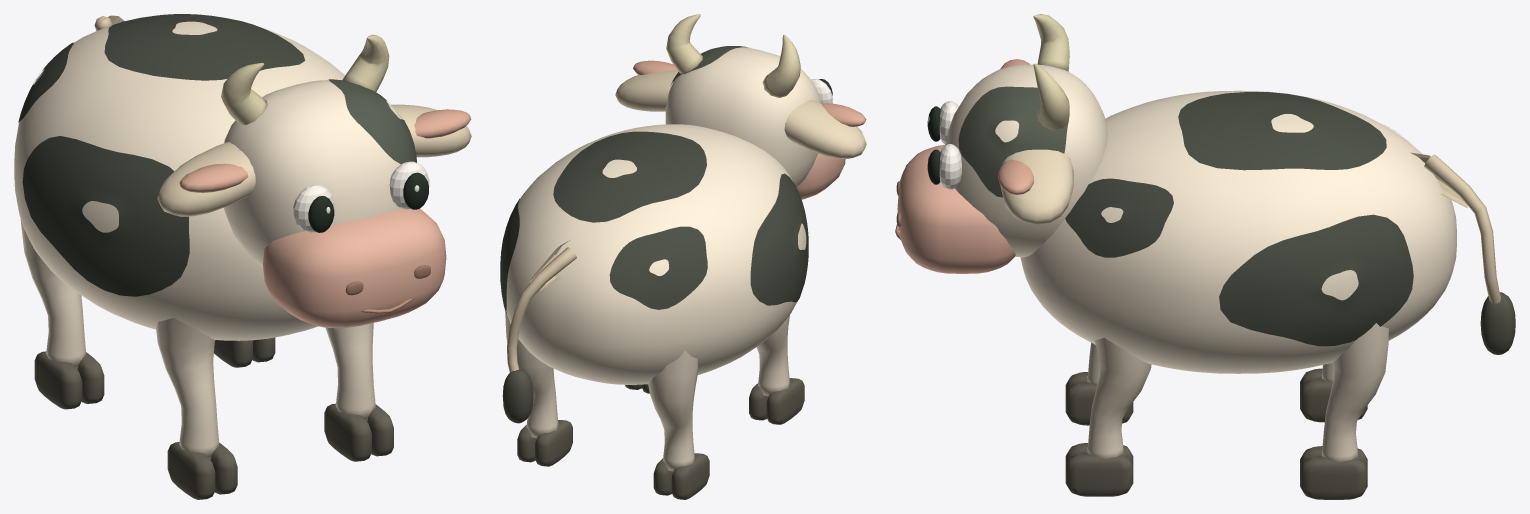
Rendered from cow.gltf.
3 views of the same model, side by side, from view 1: azimuth 30°, elevation 25°; view 2: azimuth 150°, elevation 25°; view 3: azimuth 270°, elevation 25° (orthographic). The views are drawn at different scales.
Visible parts, largest first — view 1: sculpted-shoulders-belly, flush-coat-marking-1, head-and-forehead, soft-pink-muzzle, flush-coat-marking-2, curved-leg-2, curved-leg-0, ear--1, curved-leg-3, forehead-coat-marking, cloven-hoof-0-toe--1, cloven-hoof-2-toe--1 (+16 smaller); view 2: sculpted-shoulders-belly, head-and-forehead, flush-coat-marking-2, flush-coat-marking-4, flush-coat-marking-1, curved-leg-0, ear--1, curved-leg-1, ear-1, curved-leg-2, curving-tail, tail-tuft (+13 smaller); view 3: sculpted-shoulders-belly, flush-coat-marking-0, flush-coat-marking-2, head-and-forehead, soft-pink-muzzle, flush-coat-marking-3, forehead-coat-marking, curved-leg-1, curved-leg-3, ear-1, cloven-hoof-3-toe-1, cloven-hoof-1-toe-1 (+8 smaller).
Boxes of the visible parts, x1=… form: sculpted-shoulders-belly: x1=14, y1=21, x2=344, y2=340; flush-coat-marking-1: x1=22, y1=136, x2=189, y2=296; head-and-forehead: x1=224, y1=80, x2=402, y2=267; soft-pink-muzzle: x1=263, y1=208, x2=446, y2=328; flush-coat-marking-2: x1=104, y1=14, x2=305, y2=80; curved-leg-2: x1=156, y1=317, x2=219, y2=459; curved-leg-0: x1=20, y1=219, x2=86, y2=368; ear--1: x1=157, y1=142, x2=255, y2=216; curved-leg-3: x1=325, y1=323, x2=375, y2=420; forehead-coat-marking: x1=328, y1=79, x2=416, y2=164; cloven-hoof-0-toe--1: x1=34, y1=351, x2=82, y2=409; cloven-hoof-2-toe--1: x1=167, y1=442, x2=215, y2=499; sculpted-shoulders-belly: x1=506, y1=124, x2=806, y2=384; head-and-forehead: x1=665, y1=47, x2=820, y2=187; flush-coat-marking-2: x1=553, y1=131, x2=706, y2=222; flush-coat-marking-4: x1=609, y1=226, x2=707, y2=309; flush-coat-marking-1: x1=750, y1=173, x2=808, y2=305; curved-leg-0: x1=648, y1=351, x2=698, y2=471; ear--1: x1=784, y1=100, x2=866, y2=158; curved-leg-1: x1=505, y1=312, x2=558, y2=438; ear-1: x1=615, y1=69, x2=678, y2=111; curved-leg-2: x1=756, y1=315, x2=789, y2=396; curving-tail: x1=507, y1=247, x2=576, y2=372; tail-tuft: x1=502, y1=369, x2=533, y2=423; sculpted-shoulders-belly: x1=1020, y1=90, x2=1456, y2=373; flush-coat-marking-0: x1=1219, y1=214, x2=1413, y2=346; flush-coat-marking-2: x1=1178, y1=92, x2=1386, y2=170; head-and-forehead: x1=945, y1=64, x2=1107, y2=257; soft-pink-muzzle: x1=897, y1=145, x2=1015, y2=273; flush-coat-marking-3: x1=1065, y1=178, x2=1173, y2=257; forehead-coat-marking: x1=958, y1=86, x2=1068, y2=197; curved-leg-1: x1=1322, y1=323, x2=1388, y2=461; curved-leg-3: x1=1087, y1=337, x2=1151, y2=458; ear-1: x1=1000, y1=149, x2=1073, y2=224; cloven-hoof-3-toe-1: x1=1065, y1=453, x2=1133, y2=496; cloven-hoof-1-toe-1: x1=1300, y1=456, x2=1367, y2=499.
Size of the model in its own units: 1.35 by 1.8 by 2.44.
